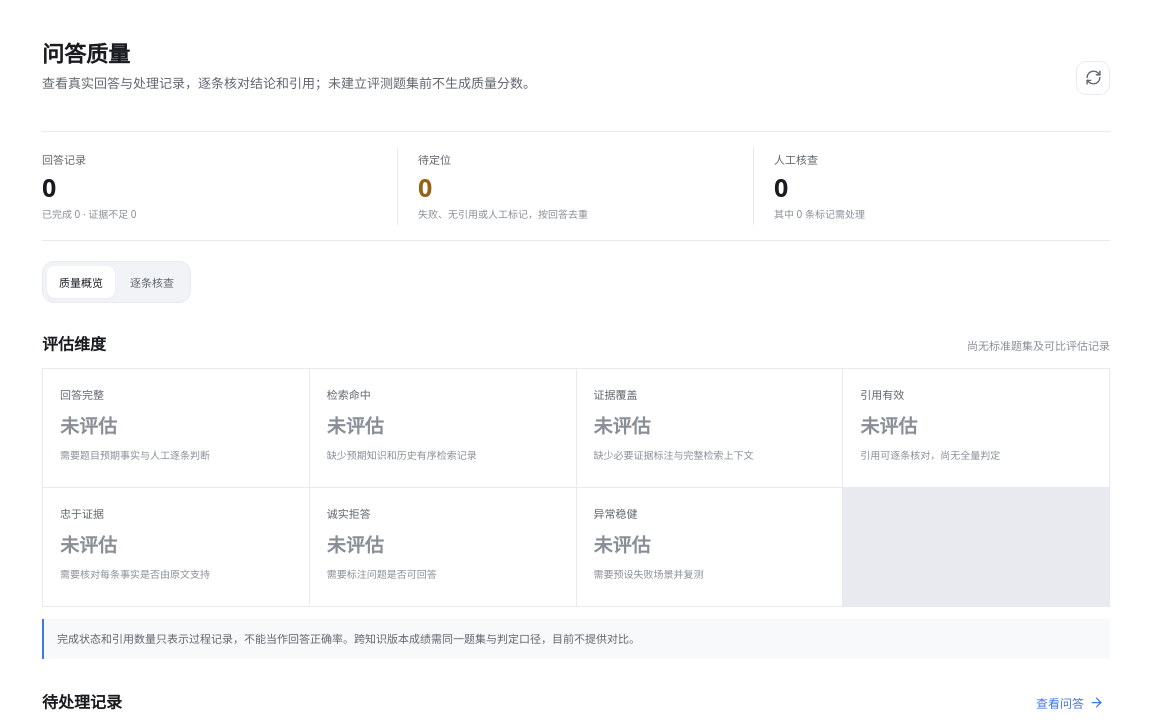
Test: AnswerQualityPage › shows no invented grade for an empty personal library
The image size is (1152, 720).
Check: the heading "评估维度" is shown, box [42,331,106,355]
Click the tab "逐条核查". click: (152, 282)
box: [118,266,186,298]
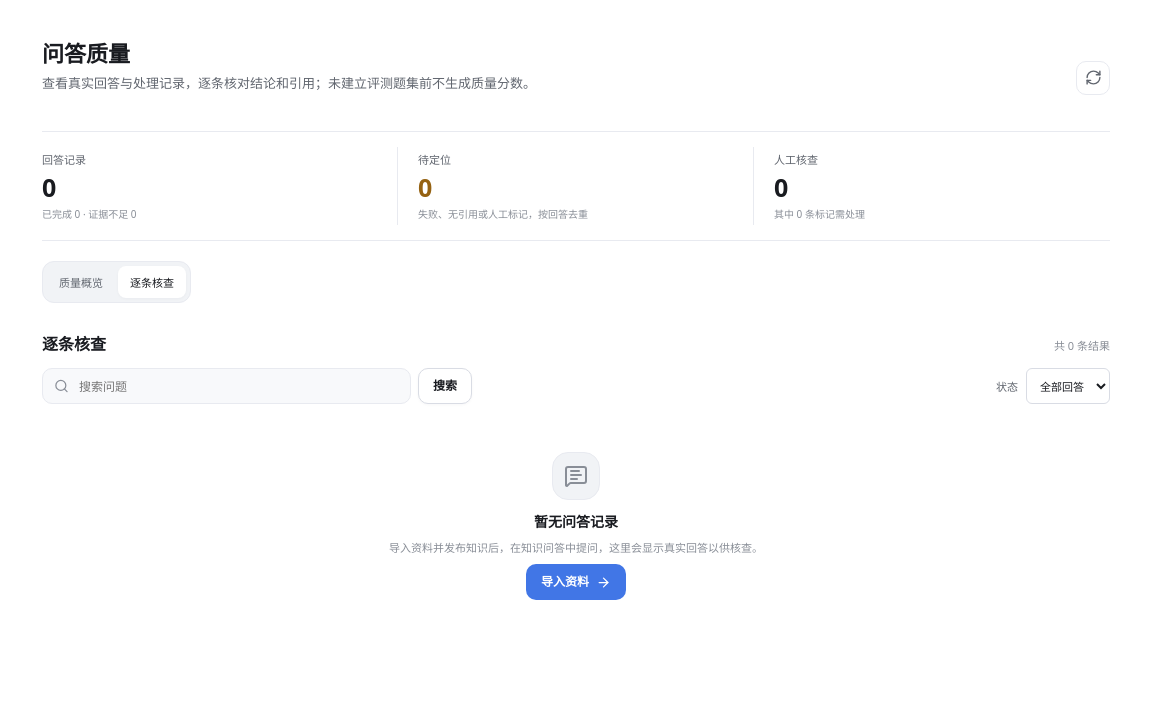
Check: the text "暂无问答记录" is shown, box [534,511,618,531]
